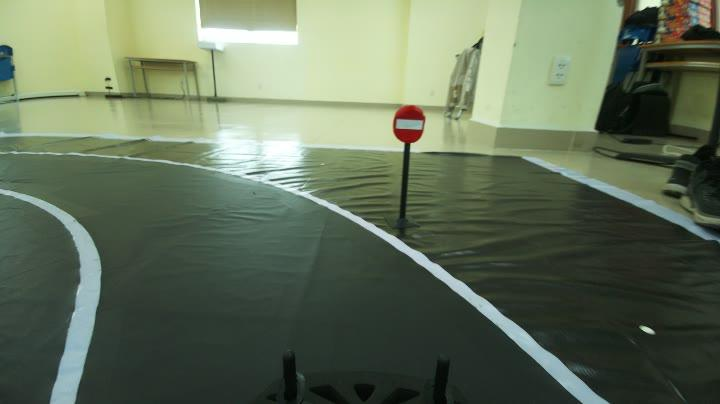no_entry: (390, 102, 430, 142)
